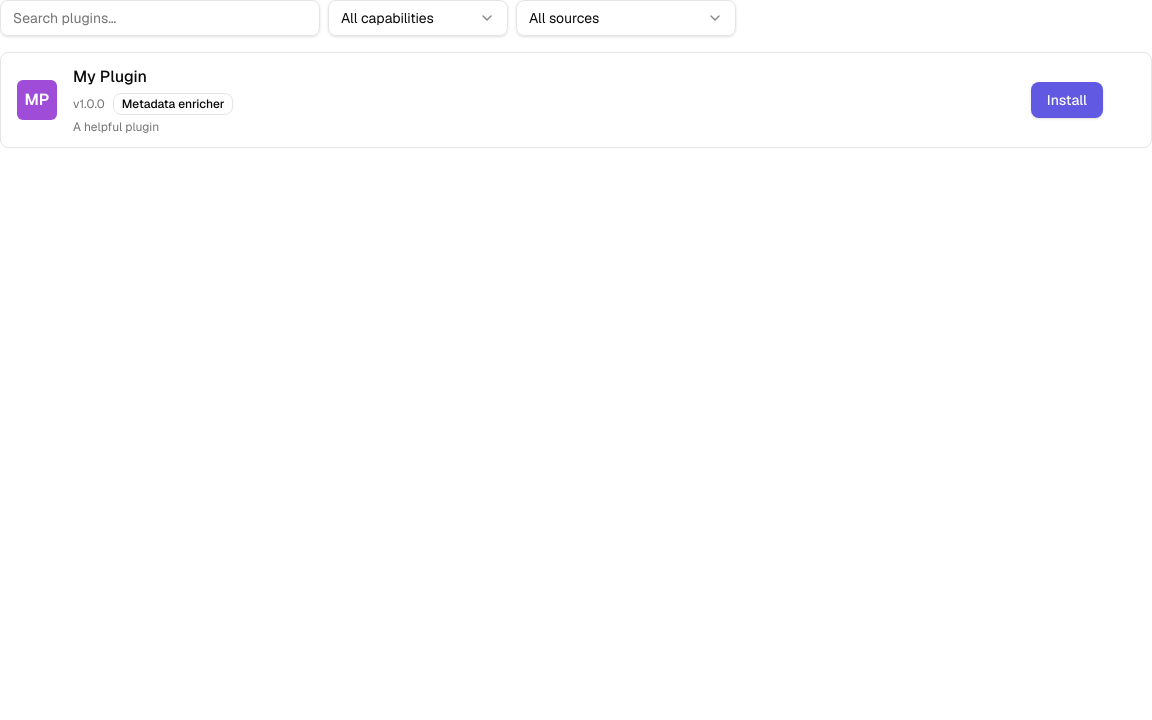
Scenario: DiscoverTab › opens the CapabilitiesWarning dialog when Install is clicked
Click the button "Install" at {"x": 1067, "y": 100}, box [1031,82,1103,118]
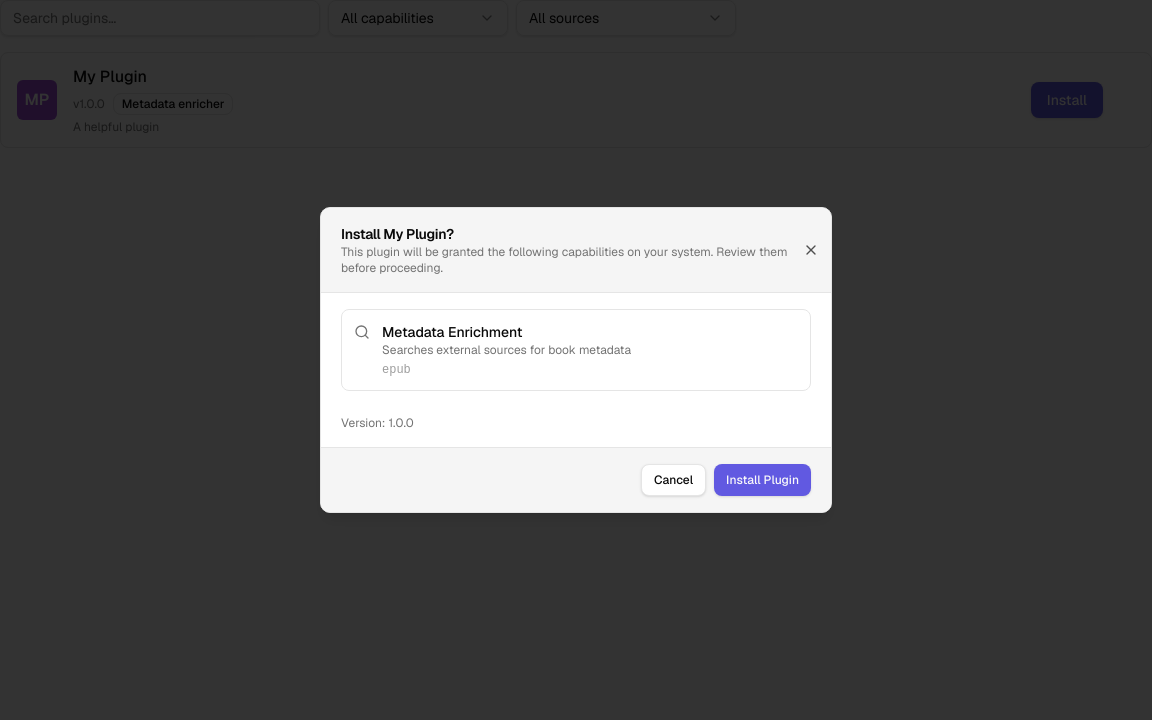
Expected: the heading "Install My Plugin?" is shown, [341,225,454,243]
